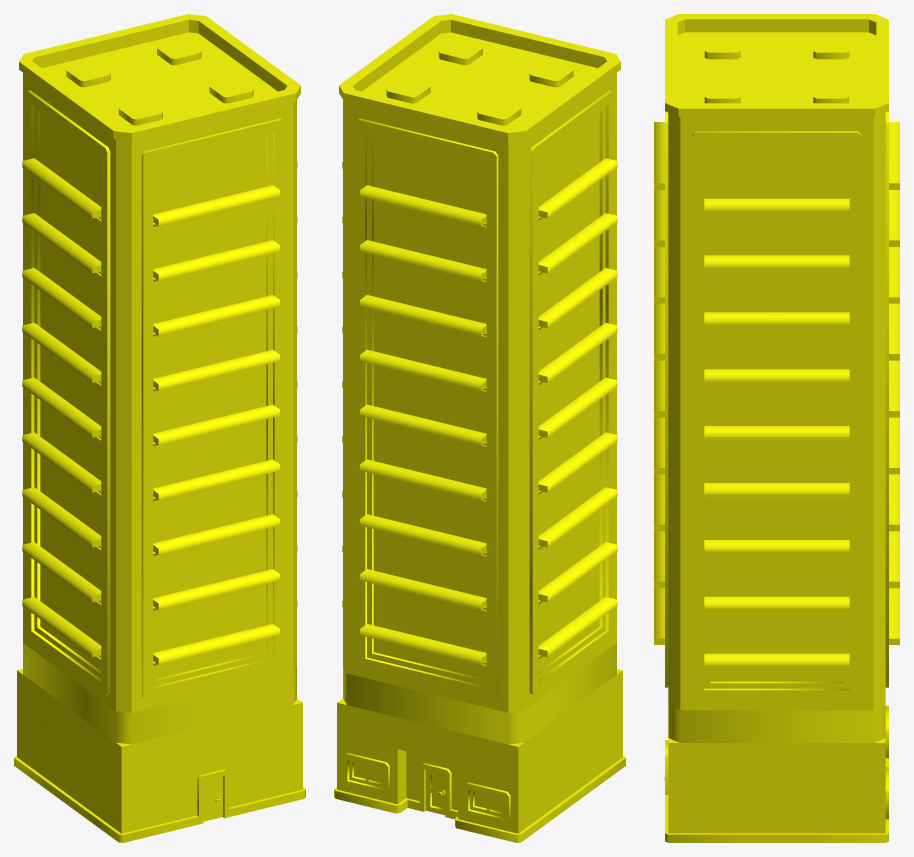
File: industrial-1.glb
3 views of the same model, side by side, from view 1: azimuth 30°, elevation 25°; view 2: azimuth 150°, elevation 25°; view 3: azimuth 270°, elevation 25° (orthographic). The views are drawn at different scales.
Visible parts, largest first — view 1: building-skyscraper-b; view 2: building-skyscraper-b; view 3: building-skyscraper-b.
Part boxes in pixels (x1,y1,x2,y2): building-skyscraper-b: [14, 14, 305, 842]; building-skyscraper-b: [334, 14, 625, 842]; building-skyscraper-b: [654, 14, 899, 842].
Size of the model in its own units: 1.36 by 4.48 by 1.36.
1 material, 1 textured.
